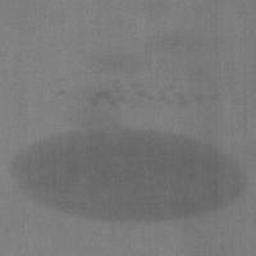Oil spot: (4, 27, 251, 227)
